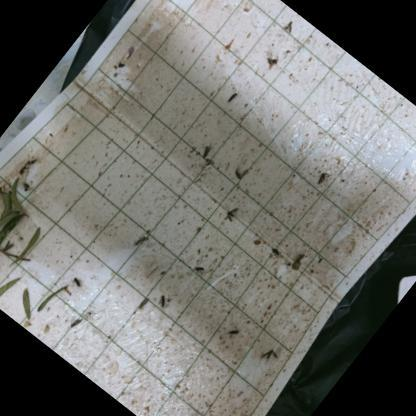prays_oleae: (184, 250, 214, 284), (254, 340, 284, 372), (216, 201, 242, 229), (192, 139, 216, 168), (150, 289, 176, 315), (225, 164, 250, 190), (221, 320, 244, 344), (258, 55, 281, 77), (310, 172, 328, 192), (280, 16, 297, 34)
